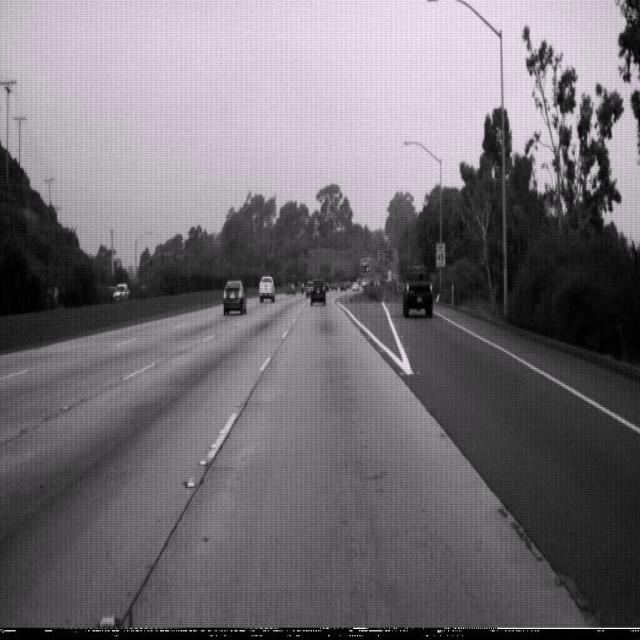speedLimit45: (436, 242, 446, 268)
